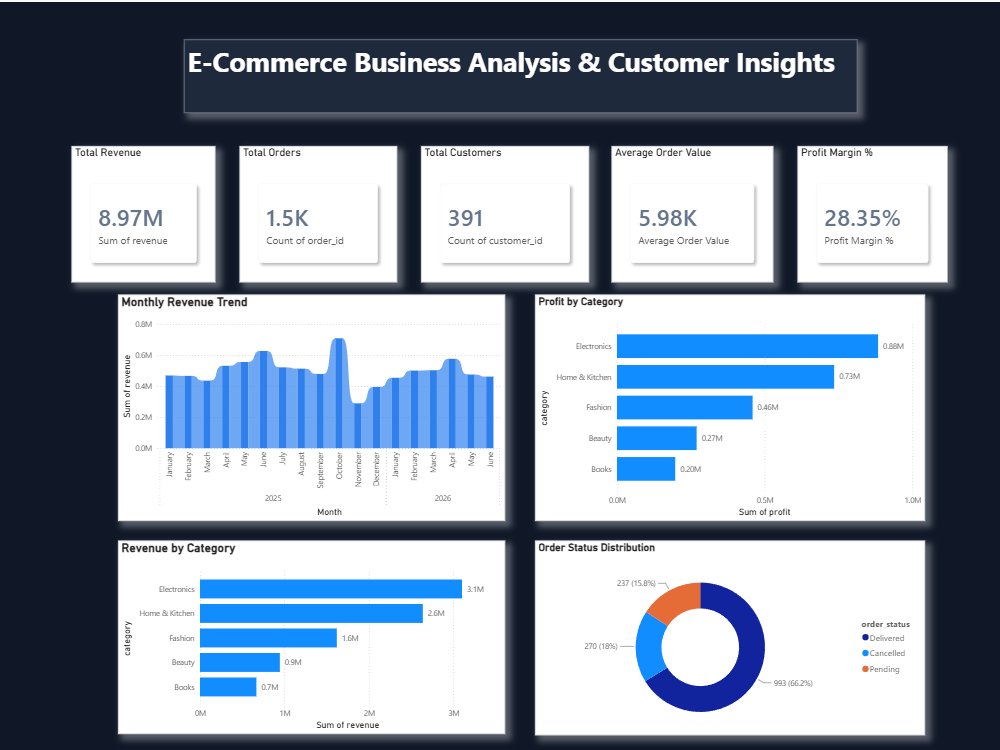

The dashboard page shown, as its layout file describes it:
{"tool":"powerbi","page":{"name":"Page 1","canvas":[1600,1200],"ordinal":0},"visuals":[{"type":"cardVisual","title":"Total Revenue","fields":{"Data":["Sum(ecommerce_ba ecommerce_orders.revenue)"]},"box":[117.4,230.1,230.1,218.1],"z":0},{"type":"cardVisual","title":"Total Orders","fields":{"Data":["Count(ecommerce_ba ecommerce_orders.order_id)"]},"box":[385.3,230.1,251.7,218.1],"z":1000},{"type":"cardVisual","title":"Total Customers","fields":{"Data":["Count(ecommerce_ba customer_summary.customer_id)"]},"box":[674.7,230.1,268.4,218.1],"z":2000},{"type":"cardVisual","title":"Average Order Value","fields":{"Data":["ecommerce_ba customer_summary.Average Order Value"]},"box":[980.9,230.1,258.9,218.1],"z":3000},{"type":"ribbonChart","title":"Monthly Revenue Trend","fields":{"Y":["Sum(ecommerce_ba ecommerce_orders.revenue)"],"Category":["ecommerce_ba ecommerce_orders.order_date.Variation.Date Hierarchy.Year","ecommerce_ba ecommerce_orders.order_date.Variation.Date Hierarchy.Month"]},"box":[191.7,467.4,618.4,361.9],"z":4000},{"type":"clusteredBarChart","title":"Revenue by Category","fields":{"Category":["ecommerce_ba ecommerce_orders.category"],"Y":["Sum(ecommerce_ba ecommerce_orders.revenue)"]},"box":[191.7,860.5,618.4,309.2],"z":5000},{"type":"donutChart","title":"Order Status Distribution","fields":{"Category":["ecommerce_ba ecommerce_orders.order_status"],"Y":["CountNonNull(ecommerce_ba ecommerce_orders.order_id)"]},"box":[858.1,860.5,623.2,311.6],"z":6000},{"type":"clusteredBarChart","title":"Profit by Category","fields":{"Category":["ecommerce_ba ecommerce_orders.category"],"Y":["Sum(ecommerce_ba ecommerce_orders.profit)"]},"box":[858.1,467.4,623.2,361.9],"z":7000},{"type":"cardVisual","title":"Profit Margin %","fields":{"Data":["ecommerce_ba customer_summary.Profit Margin %"]},"box":[1277.5,230.1,239.7,218.1],"z":8000},{"type":"textbox","box":[297.2,59.9,1076.2,117.4],"z":9000}]}

Visuals, with their boxes in screenshot pixels (x1, y1, x2, y2), scaled from the page's 1600x1200 canvas onto the 1000x750 screenshot:
"Total Revenue" cardVisual: [left=73, top=144, right=217, bottom=280]
"Total Orders" cardVisual: [left=241, top=144, right=398, bottom=280]
"Total Customers" cardVisual: [left=422, top=144, right=589, bottom=280]
"Average Order Value" cardVisual: [left=613, top=144, right=775, bottom=280]
"Monthly Revenue Trend" ribbonChart: [left=120, top=292, right=506, bottom=518]
"Revenue by Category" clusteredBarChart: [left=120, top=538, right=506, bottom=731]
"Order Status Distribution" donutChart: [left=536, top=538, right=926, bottom=733]
"Profit by Category" clusteredBarChart: [left=536, top=292, right=926, bottom=518]
"Profit Margin %" cardVisual: [left=798, top=144, right=948, bottom=280]
textbox: [left=186, top=37, right=858, bottom=111]
